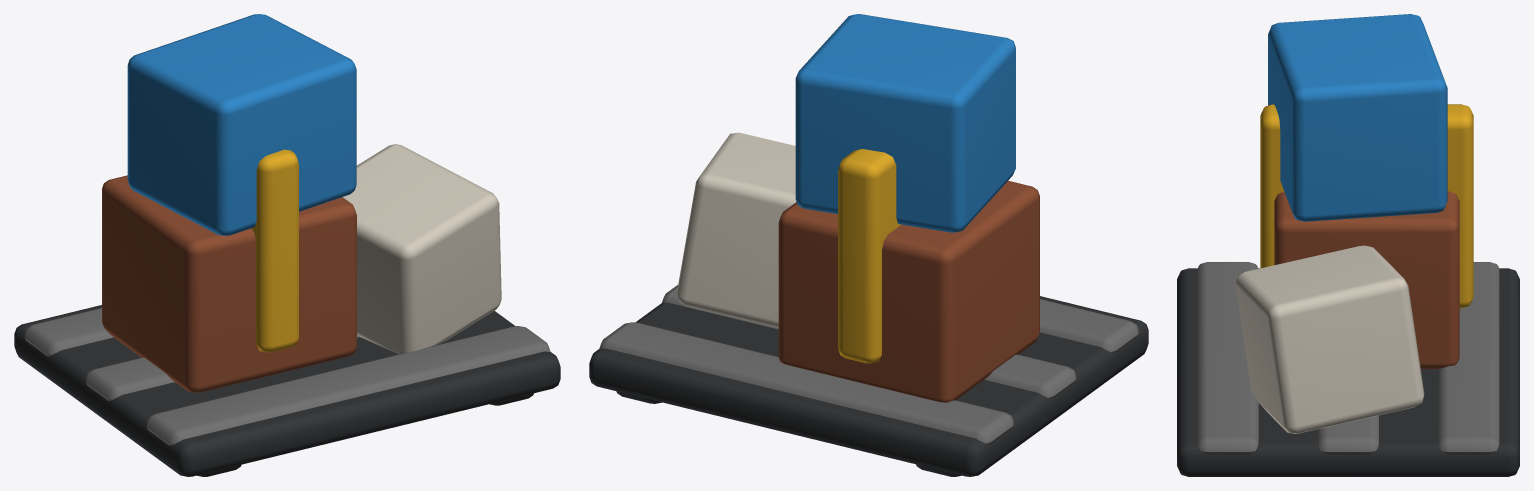
The model's file is yard-pallet.glb.
3 renders of one model, left to right at view 1: azimuth 30°, elevation 25°; view 2: azimuth 150°, elevation 25°; view 3: azimuth 270°, elevation 25°, orthographic. The views are drawn at different scales.
Visible parts, largest first — view 1: yard-pallet; view 2: yard-pallet; view 3: yard-pallet.
Part boxes in pixels (x1,y1,x2,y2): yard-pallet: [14, 14, 560, 476]; yard-pallet: [589, 14, 1148, 476]; yard-pallet: [1177, 14, 1519, 476].
Bounding box in the file's own units: 0.94 × 0.78 × 0.74.
